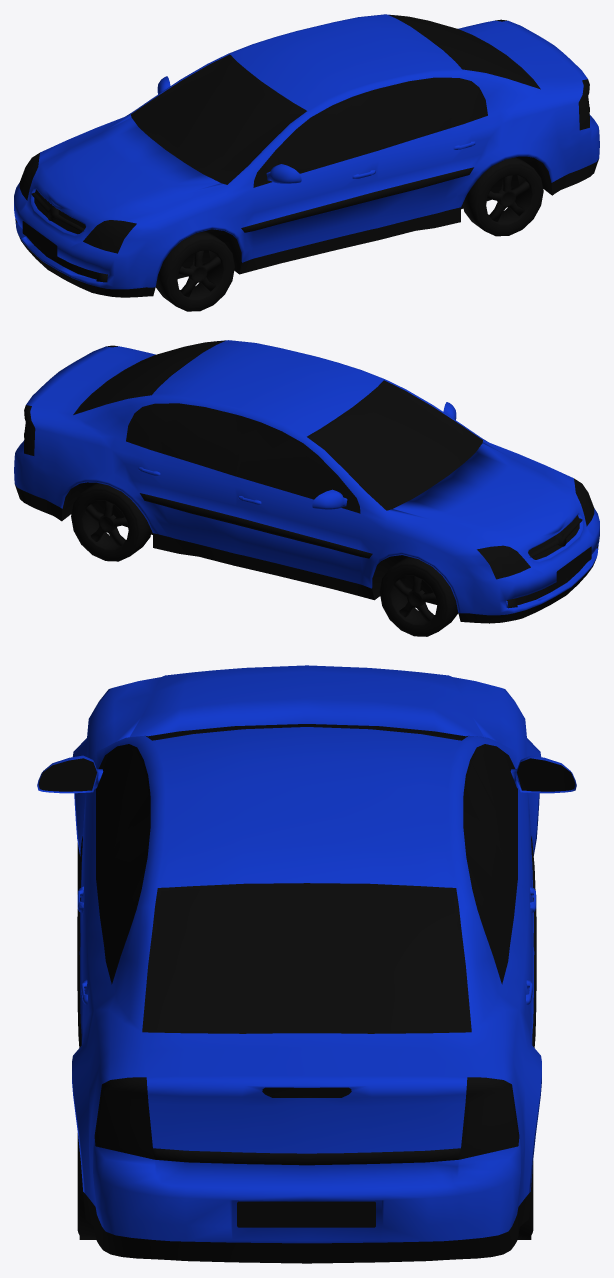
File: car.fbx
3 views of the same model, one above another, from view 1: azimuth 30°, elevation 25°; view 2: azimuth 150°, elevation 25°; view 3: azimuth 270°, elevation 25° (orthographic). The views are drawn at different scales.
Visible parts, largest first — view 1: SketchUp.182, Object001, instance_3.006, instance_3.005; view 2: SketchUp.182, Object001, instance_3.000, instance_3.004; view 3: SketchUp.182, Object001, instance_3.005.
Boxes of the visible parts, x1,y1,x2,y2 form: SketchUp.182: (14,14,599,289); Object001: (15,15,598,297); instance_3.006: (155,231,234,311); instance_3.005: (462,157,543,236); SketchUp.182: (14,340,599,615); Object001: (15,340,598,623); instance_3.000: (379,556,458,636); instance_3.004: (71,482,151,561); SketchUp.182: (37,665,576,1243); Object001: (38,724,575,1263); instance_3.005: (77,1133,96,1239).
Size of the model in its own units: 185 by 56.97 by 82.64.
